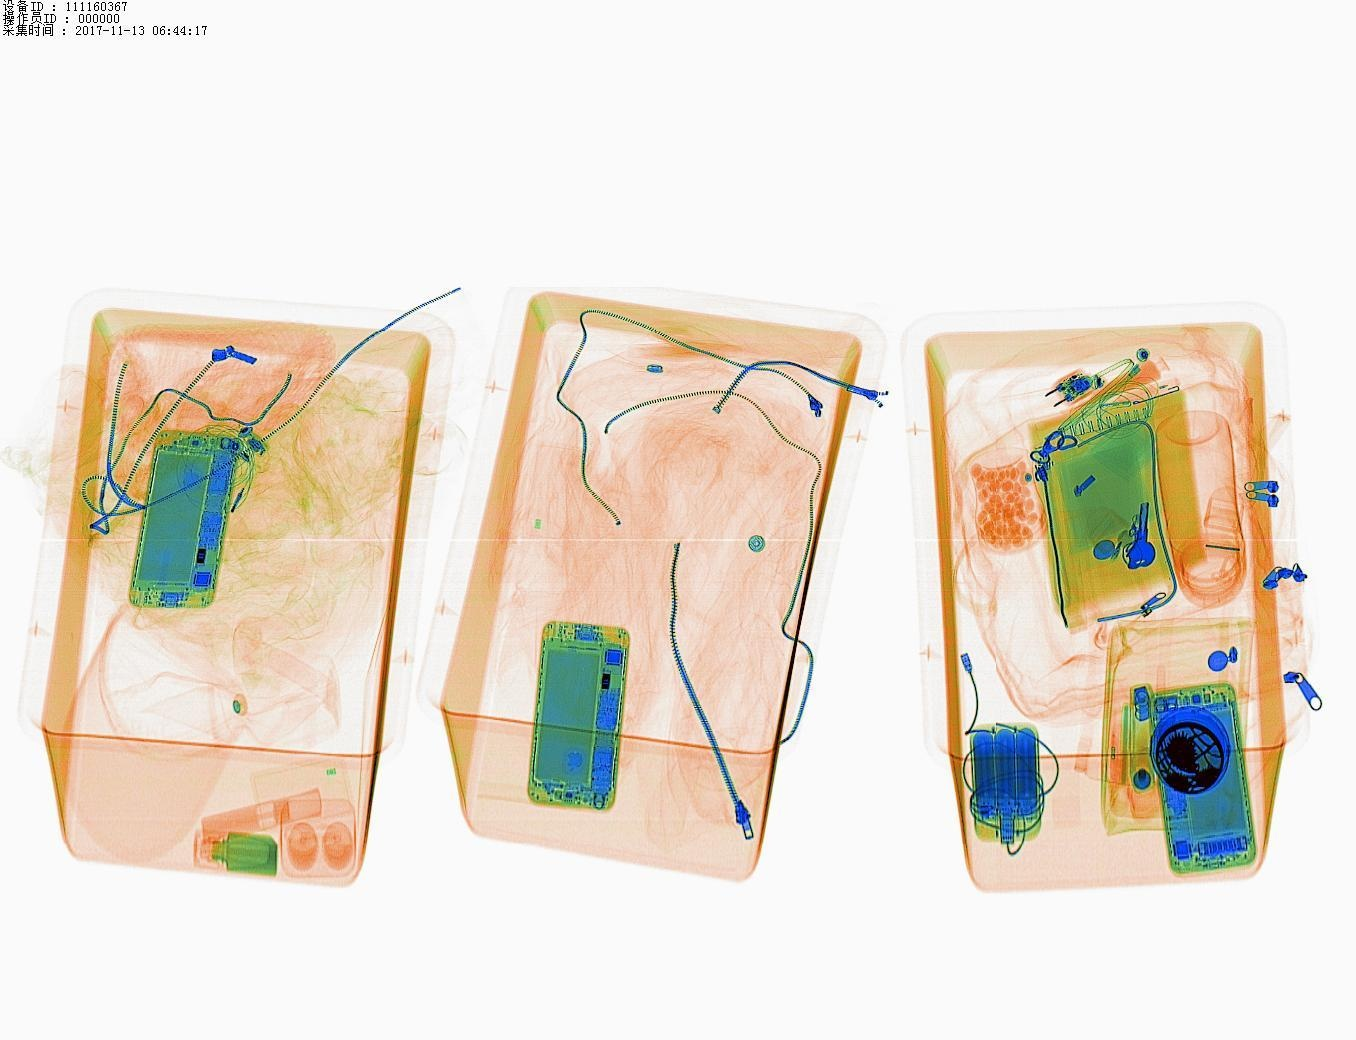core: (966, 718, 1060, 858)
